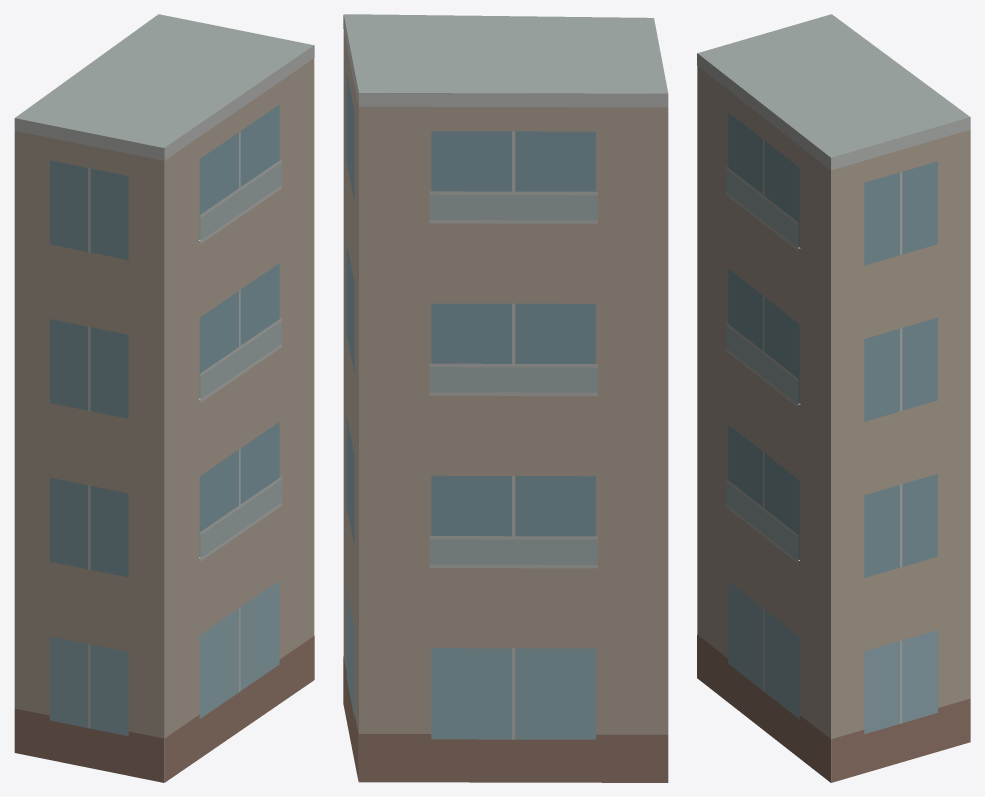
The model's file is survey-upis-32927197.glb.
3 views of the same model, side by side, from view 1: azimuth 30°, elevation 25°; view 2: azimuth 150°, elevation 25°; view 3: azimuth 270°, elevation 25° (orthographic). The views are drawn at different scales.
Parts seen in each view (by area): view 1: survey-upis-32927197.tmp; view 2: survey-upis-32927197.tmp; view 3: survey-upis-32927197.tmp.
Part boxes in pixels (x1,y1,x2,y2): survey-upis-32927197.tmp: [14, 14, 314, 782]; survey-upis-32927197.tmp: [343, 14, 668, 782]; survey-upis-32927197.tmp: [697, 14, 970, 782].
Size of the model in its own units: 6.03 by 12.2 by 4.84.
